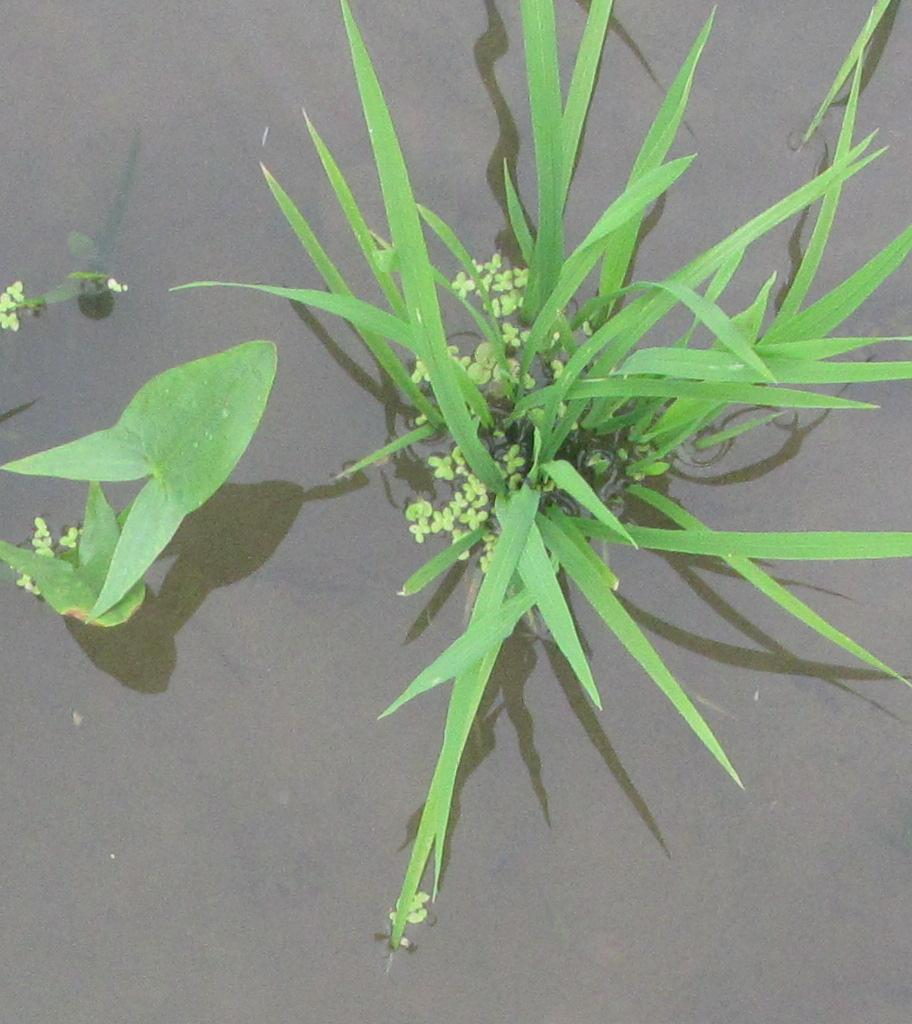Weed: (71, 339, 281, 571), (10, 427, 154, 632)
